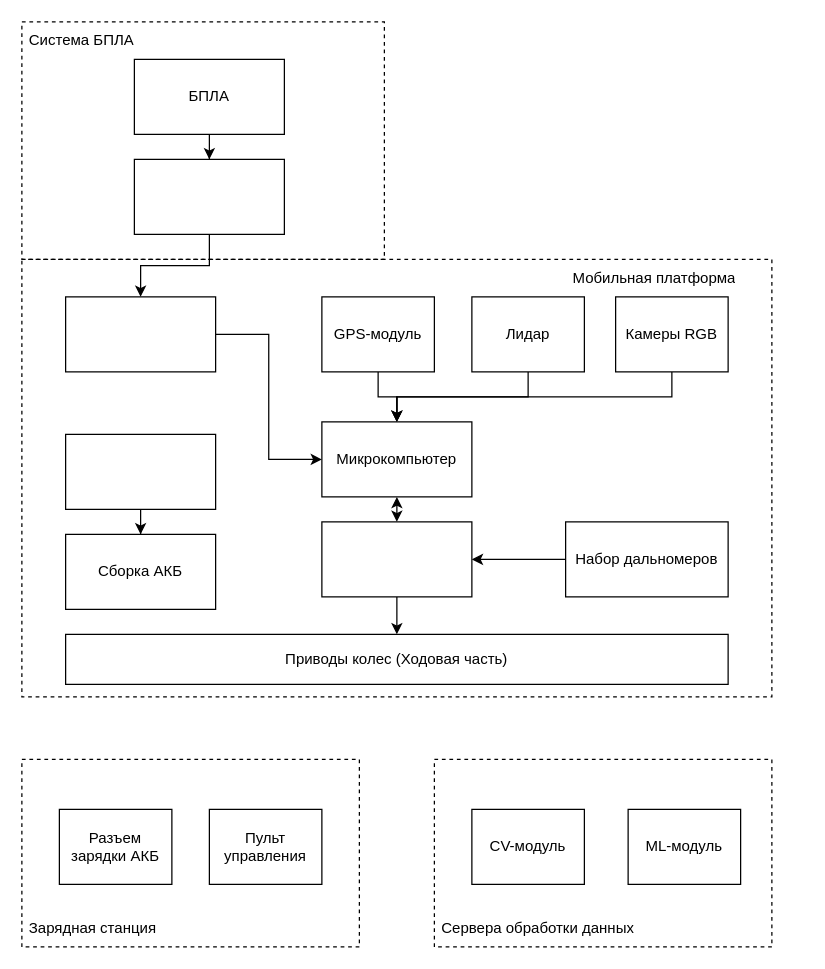
Some shapes in this 825 by 969 pixel diagram are drawn without their labels. The centre of each missing label's shape, as x and y in pixels:
"Дрон-станция" belongs at point (208, 196).
"Микроконтроллер" belongs at point (396, 559).
"Мини генератор" belongs at point (140, 471).
"Система хранения данных" belongs at point (140, 334).
